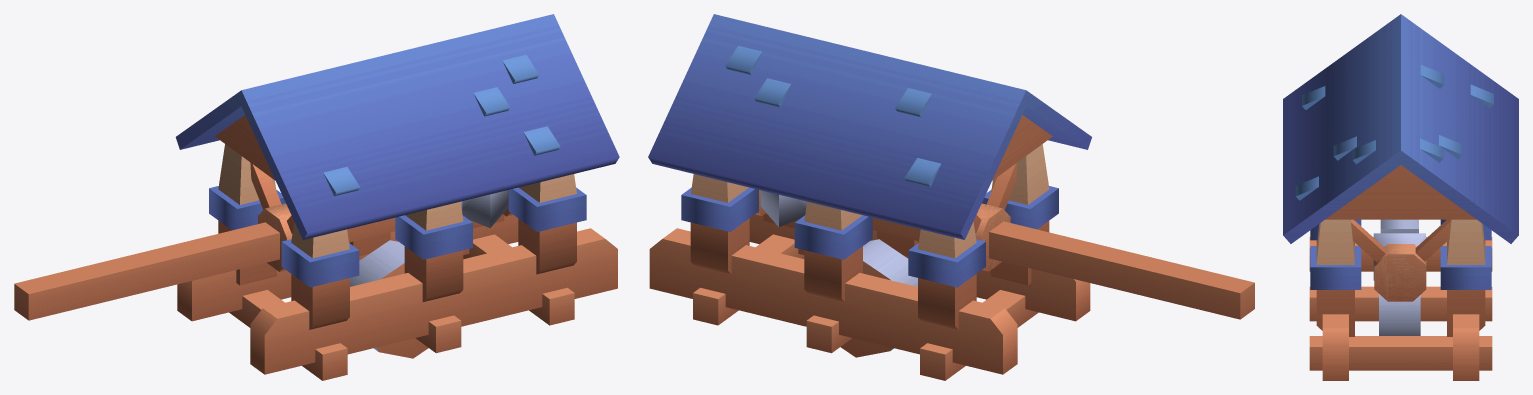
Rendered from siege-ram.glb.
The picture shows the model from 3 angles, left to right: view 1: azimuth 30°, elevation 25°; view 2: azimuth 150°, elevation 25°; view 3: azimuth 270°, elevation 25°; orthographic projection. The views are drawn at different scales.
Visible parts, largest first — view 1: siege-ram, siege-ram.001, siege-ram.003, siege-ram.002; view 2: siege-ram, siege-ram.001, siege-ram.006, siege-ram.002, siege-ram.003, siege-ram.007; view 3: siege-ram, siege-ram.004, siege-ram.001, siege-ram.005.
Part boxes in pixels (x1,y1,x2,y2): siege-ram: [175, 14, 619, 380]; siege-ram.001: [14, 190, 508, 320]; siege-ram.003: [354, 243, 425, 354]; siege-ram.002: [353, 263, 428, 358]; siege-ram: [648, 14, 1091, 380]; siege-ram.001: [760, 190, 1254, 319]; siege-ram.006: [841, 250, 915, 357]; siege-ram.002: [863, 245, 914, 279]; siege-ram.003: [863, 239, 917, 286]; siege-ram.007: [845, 262, 891, 353]; siege-ram: [1283, 14, 1518, 380]; siege-ram.004: [1379, 294, 1411, 335]; siege-ram.001: [1373, 219, 1425, 280]; siege-ram.005: [1387, 295, 1420, 335].
Bounding box in the file's own units: 11.5 × 5.92 × 4.74.
1 material, 1 textured.
